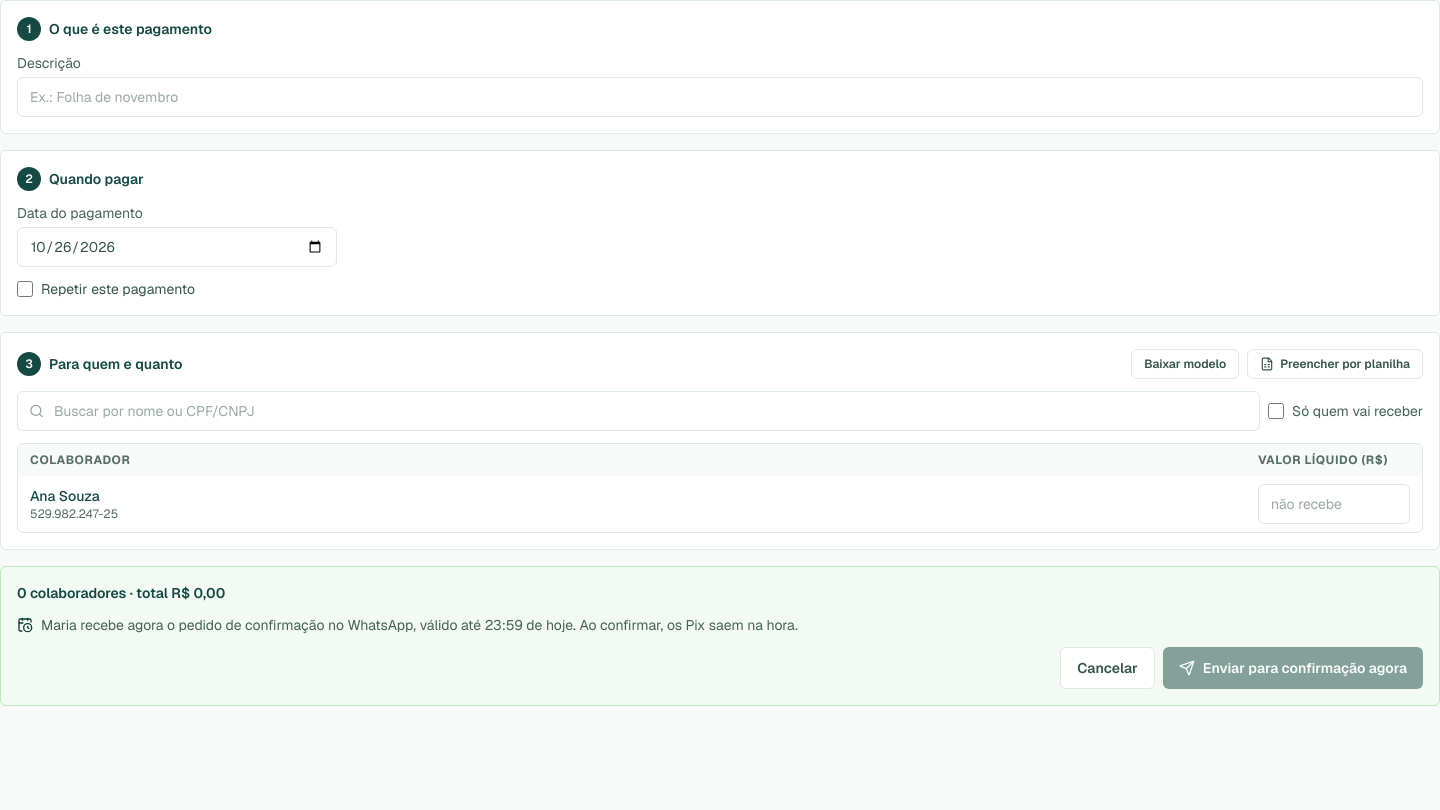
Scenario: BatchEditor › today sends the confirmation request right away
The image size is (1440, 810).
Type "100" into the field named "Valor de Ana Souza". click: coordinates (1334, 504)
box: [1258, 484, 1410, 524]
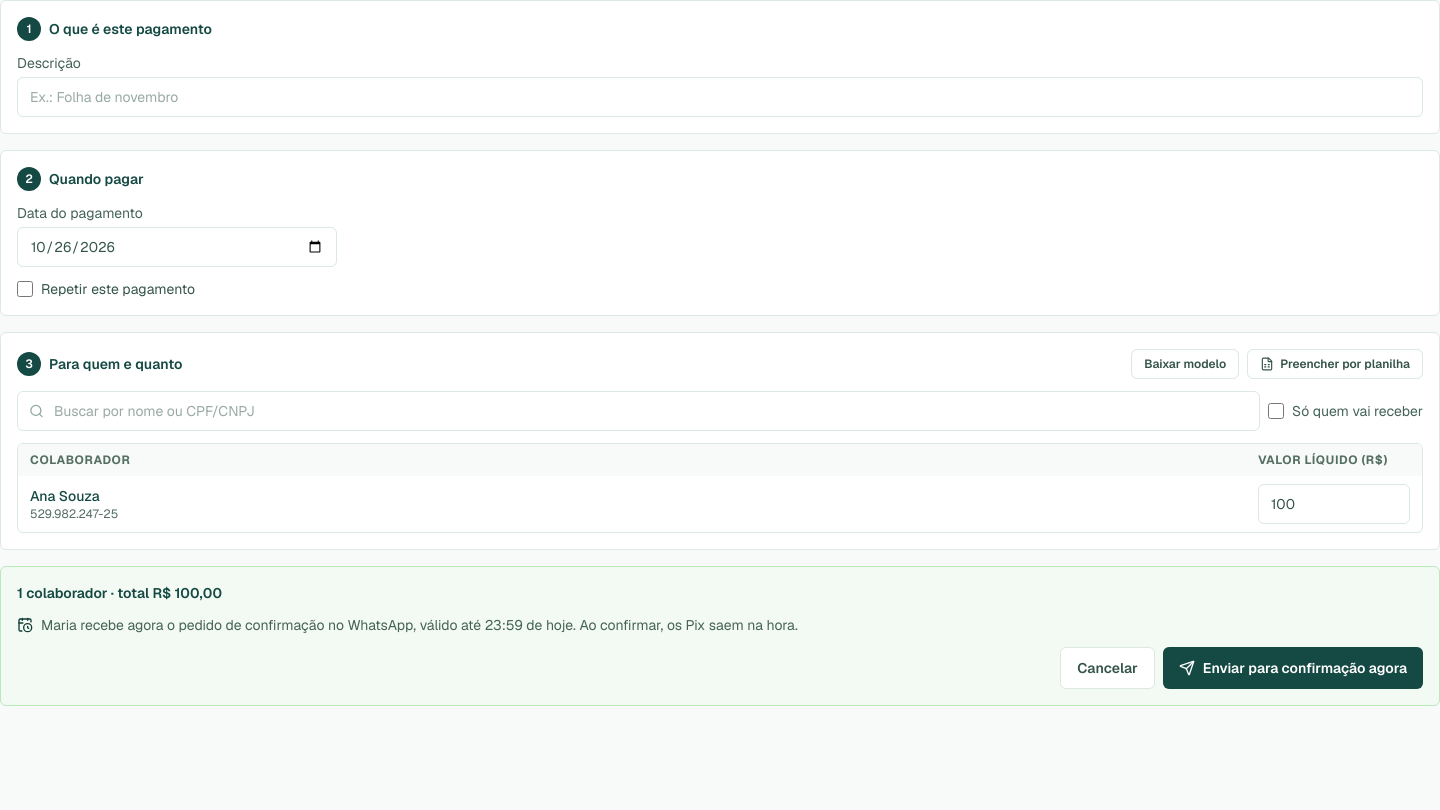
Expected: the text "Maria recebe agora o pedido de confirmação no WhatsApp, válido até 23:59 de hoje" is shown, [41, 616, 798, 634]
Expected: the button "Enviar para confirmação agora" is enabled, [1163, 647, 1423, 689]
